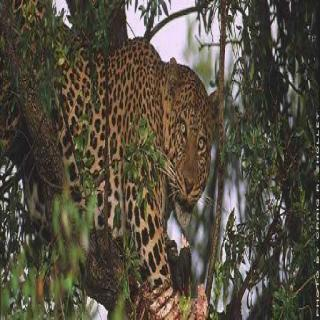Leopard: (34, 24, 242, 320)
